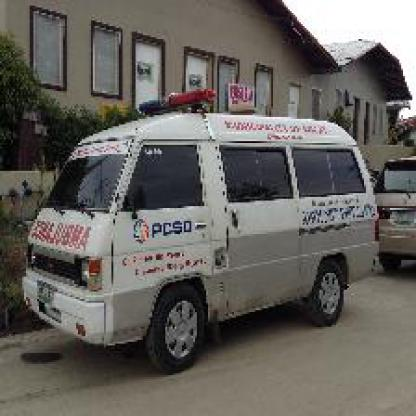emergency: (19, 87, 382, 377)
not_emergency: (372, 141, 414, 279)
